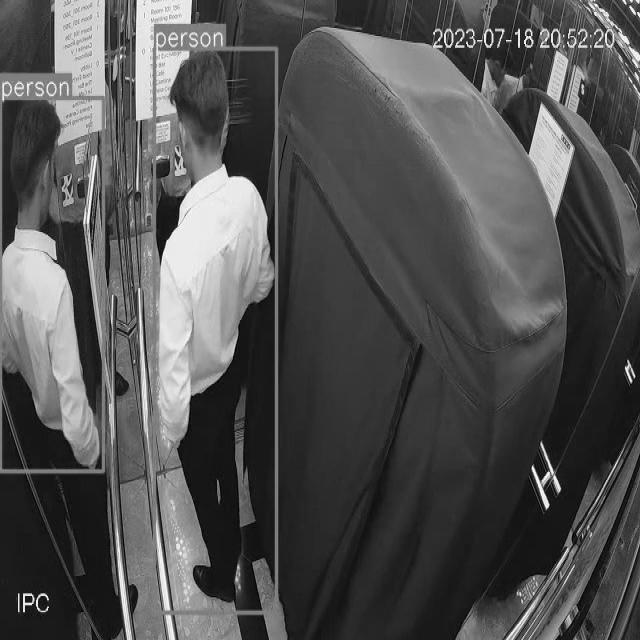person: (140, 48, 274, 624), (0, 164, 119, 621)
